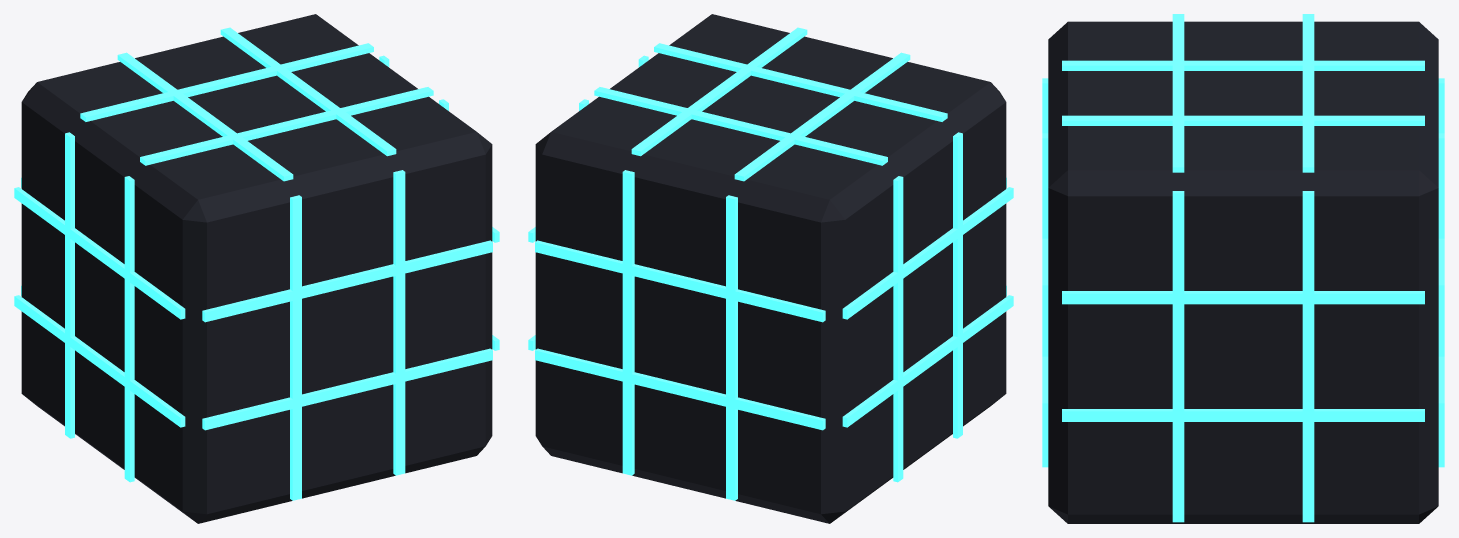
The model's file is SM_Artifact_PuzzleCube.glb.
3 renders of one model, left to right at view 1: azimuth 30°, elevation 25°; view 2: azimuth 150°, elevation 25°; view 3: azimuth 270°, elevation 25°, orthographic. The views are drawn at different scales.
Parts seen in each view (by area): view 1: SM_Artifact_PuzzleCube; view 2: SM_Artifact_PuzzleCube; view 3: SM_Artifact_PuzzleCube.
Part boxes in pixels (<box>): SM_Artifact_PuzzleCube: <box>14,14,499,523</box>; SM_Artifact_PuzzleCube: <box>528,14,1013,523</box>; SM_Artifact_PuzzleCube: <box>1042,14,1444,523</box>.
Size of the model in its own units: 0.412 by 0.406 by 0.412.
Materials: 1 (1 with a texture image).
